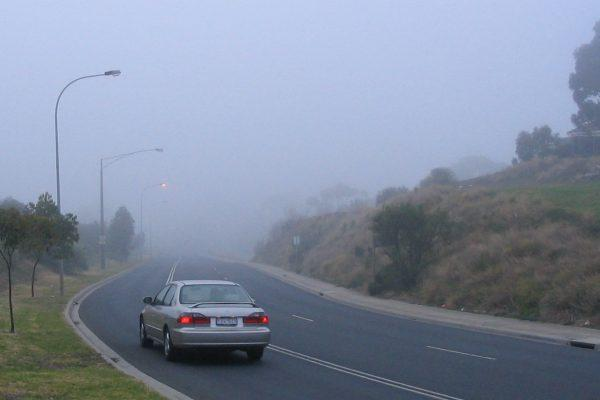car: (137, 279, 274, 364)
